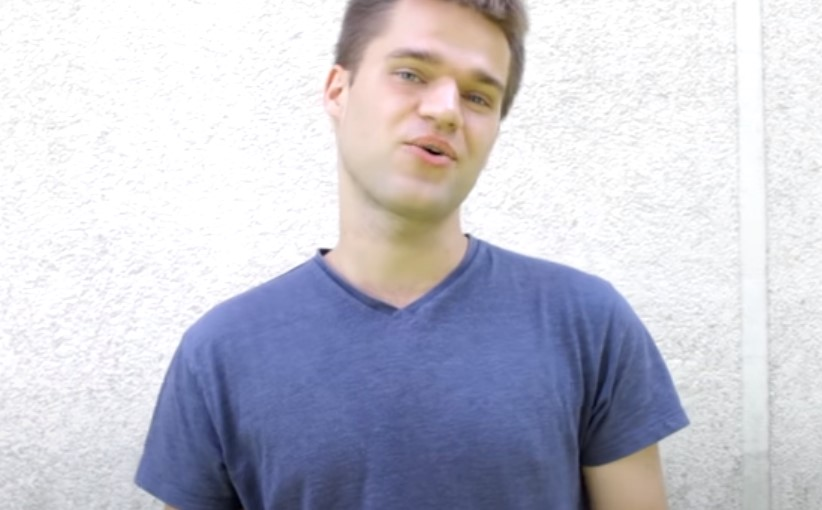face_no_mask: (323, 1, 522, 227)
